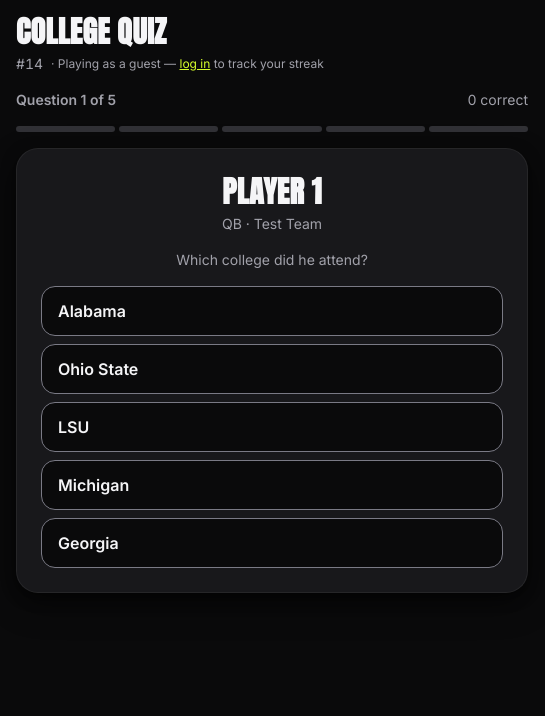
CollegeQuizScreen — playing logged out › reveals the right answer after a wrong guess, and doesn't advance until Next
Step 1. Click the button "LSU" → x=74, y=427, box [41,402,503,452]
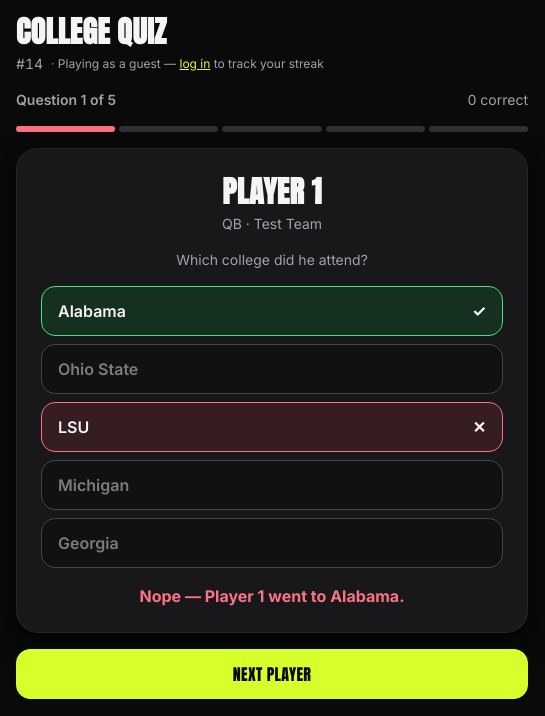
Check: the text "Question 1 of 5" is shown, box [16,90,116,110]
Check: the text "Nope — Player 1 went to Alabama." is shown, box [140,584,404,608]
Step 2. Click the button "Next player" → x=272, y=674, box [16,649,528,699]
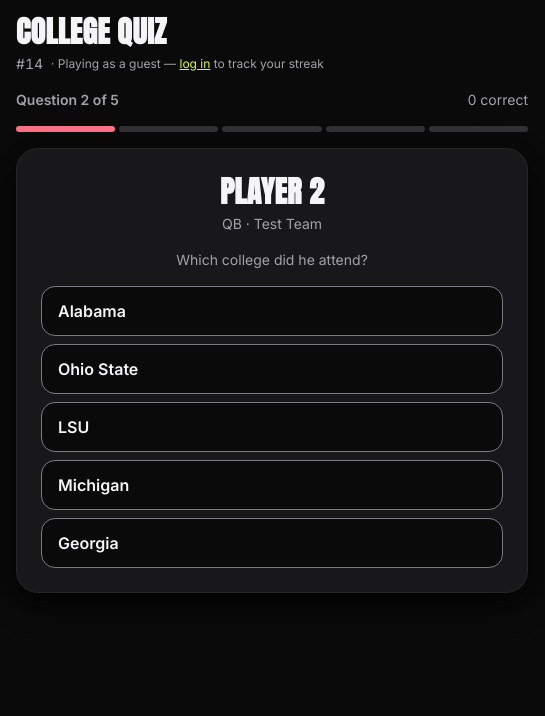
Check: the heading "Player 2" is shown, box [220,173,324,210]
